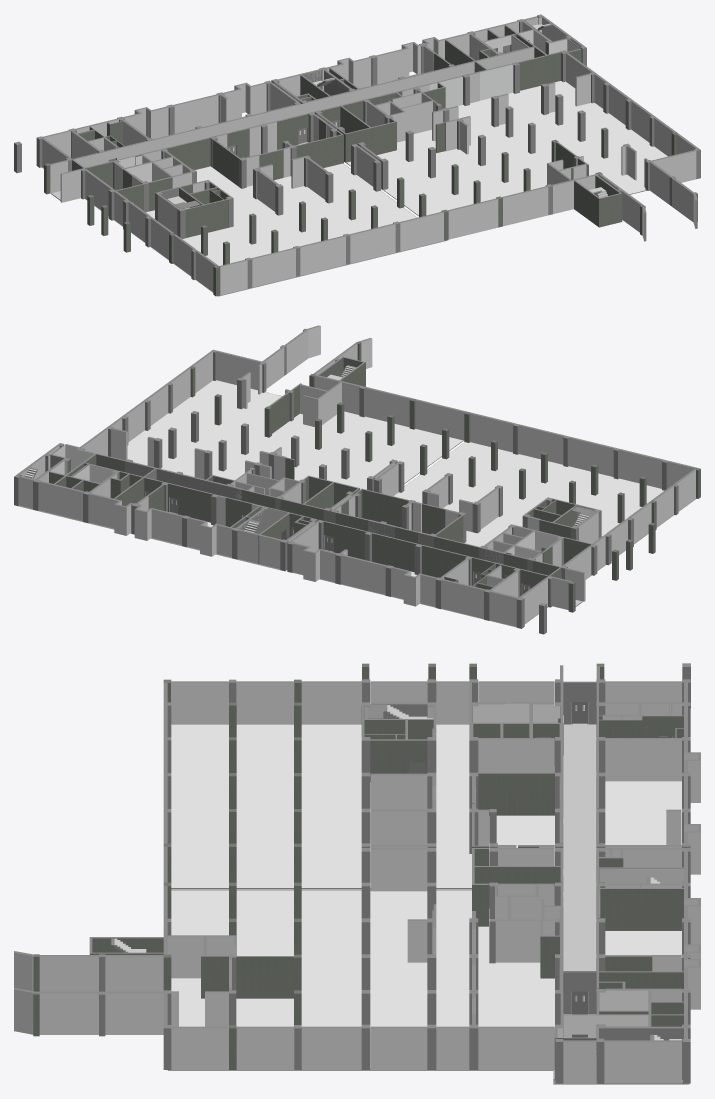
3 views of the same model, one above another, from view 1: azimuth 30°, elevation 25°; view 2: azimuth 150°, elevation 25°; view 3: azimuth 270°, elevation 25° (orthographic). The views are drawn at different scales.
Parts seen in each view (by area): view 1: Walls, Floors, Structural Columns, Stairs; view 2: Walls, Floors, Structural Columns, Stairs, Doors; view 3: Walls, Floors, Structural Columns, Doors, Stairs.
Boxes of the visible parts, x1,y1,x2,y2 form: Walls: (42, 16, 697, 295); Floors: (42, 74, 667, 296); Structural Columns: (14, 14, 700, 296); Stairs: (167, 23, 607, 209); Walls: (17, 325, 696, 626); Floors: (15, 380, 696, 627); Structural Columns: (14, 328, 700, 634); Stairs: (24, 365, 595, 532); Doors: (145, 491, 575, 595); Walls: (14, 665, 700, 1083); Floors: (167, 708, 689, 1084); Structural Columns: (33, 663, 690, 1083); Doors: (409, 702, 674, 1037); Stairs: (111, 704, 681, 1040).
Bounding box in the file's own units: 82.49 × 4.35 × 63.2.
15 materials, 3 textured.
